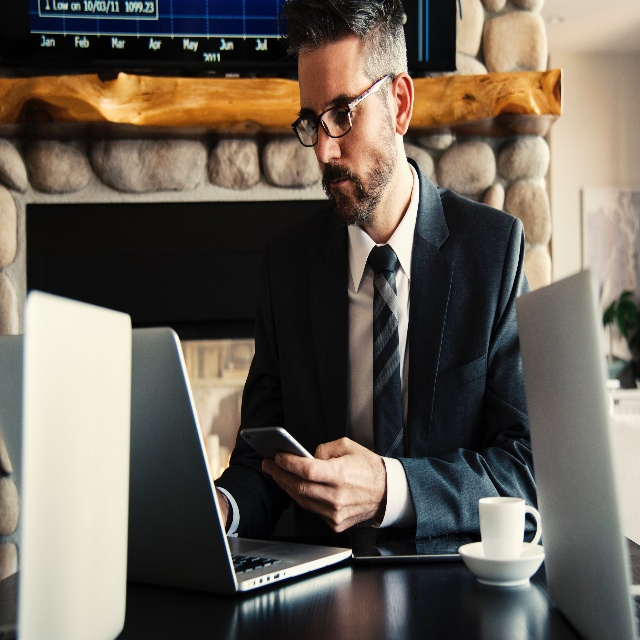Gafas: (291, 72, 395, 148)
Sin_guantes: (261, 437, 386, 533)
